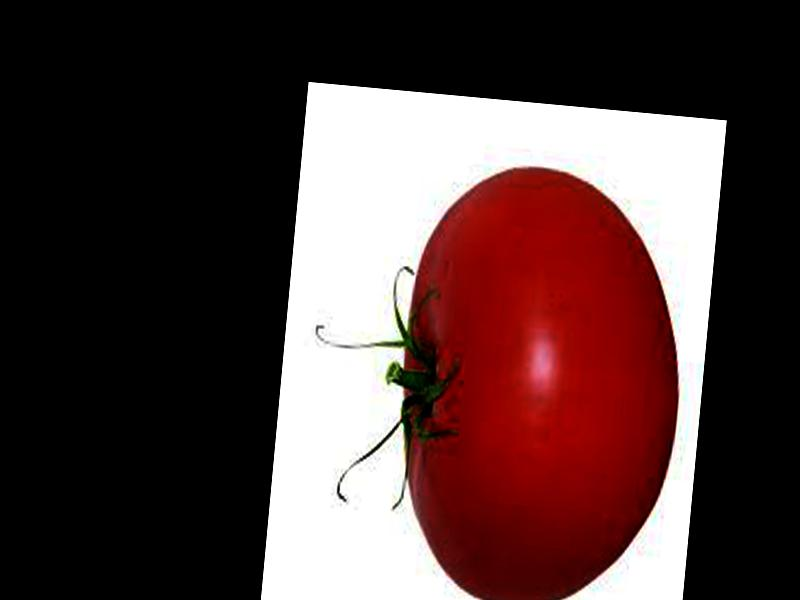Tomato: (381, 153, 697, 600)
